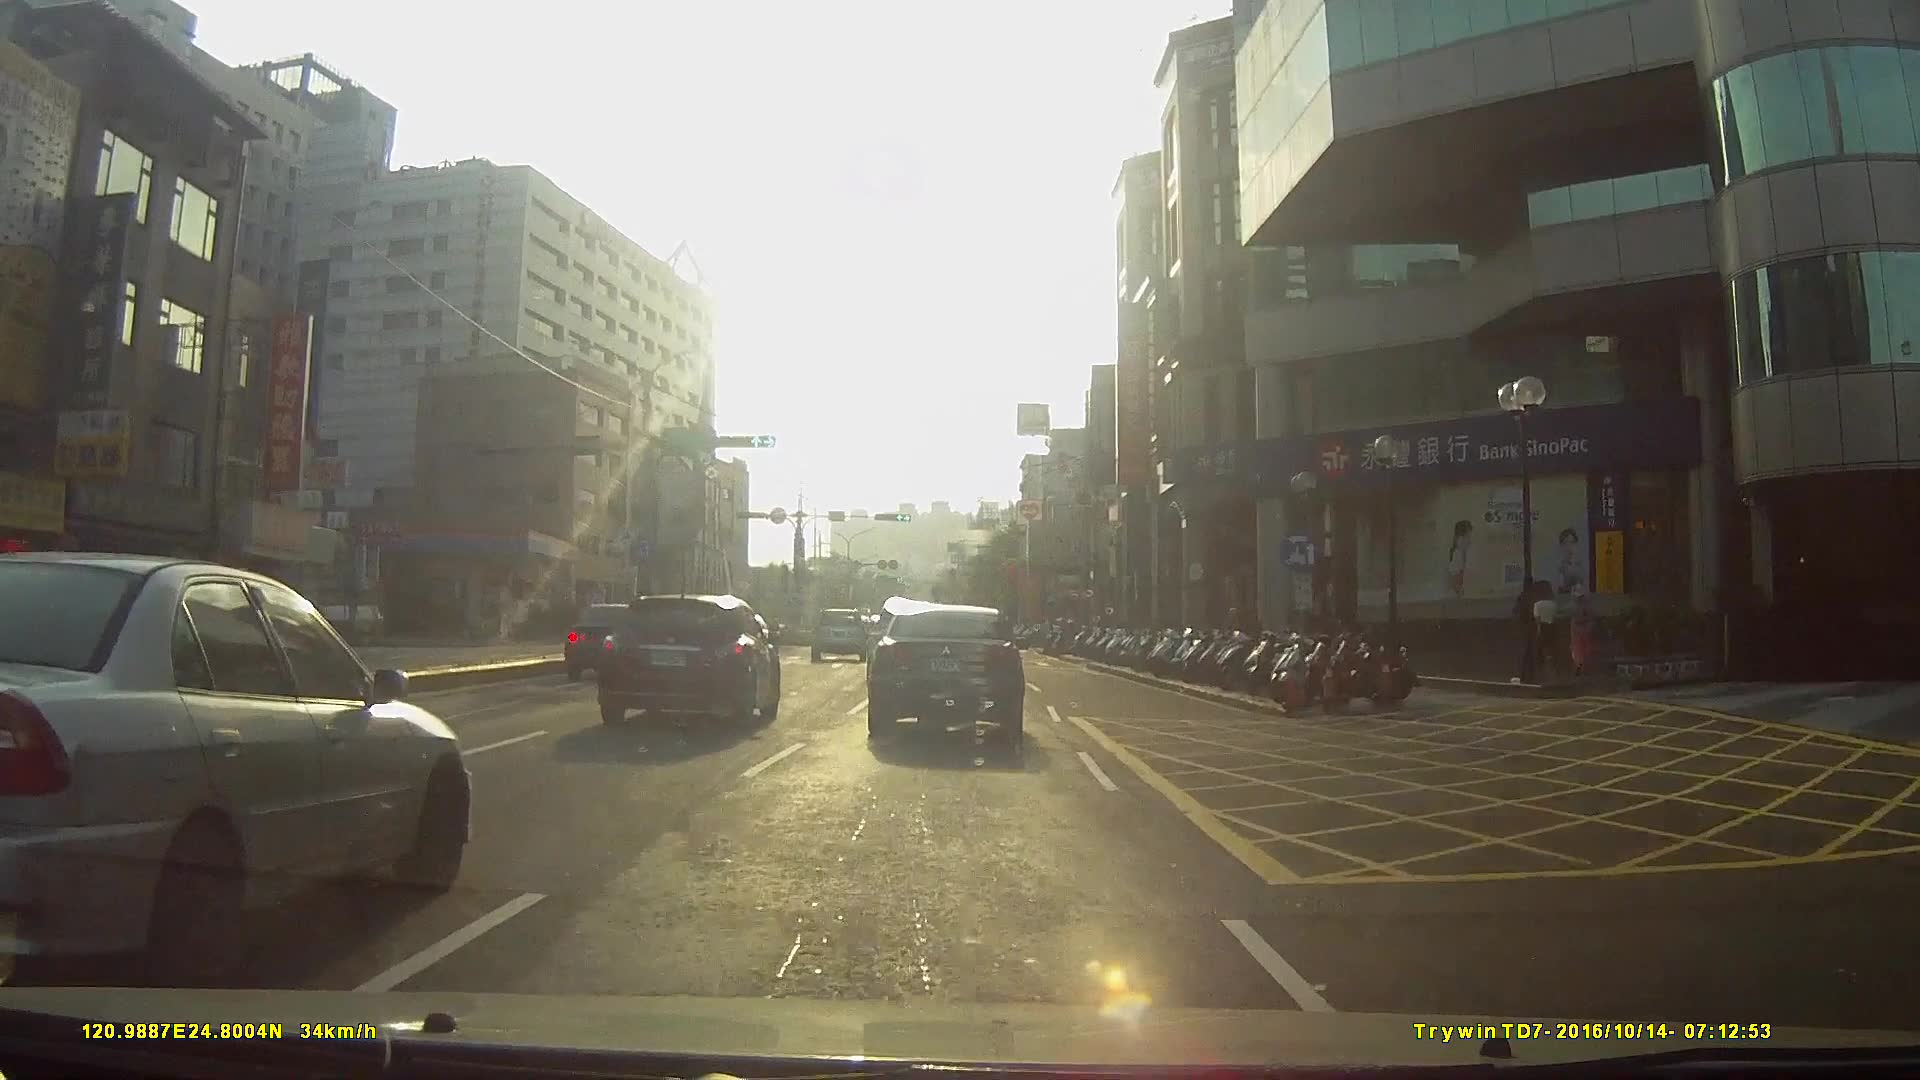pedestrian: (1563, 581, 1604, 687), (1527, 582, 1567, 676)
vehicle: (0, 551, 461, 1000), (591, 590, 776, 730), (864, 607, 1023, 748), (570, 608, 681, 690), (811, 608, 873, 663)
